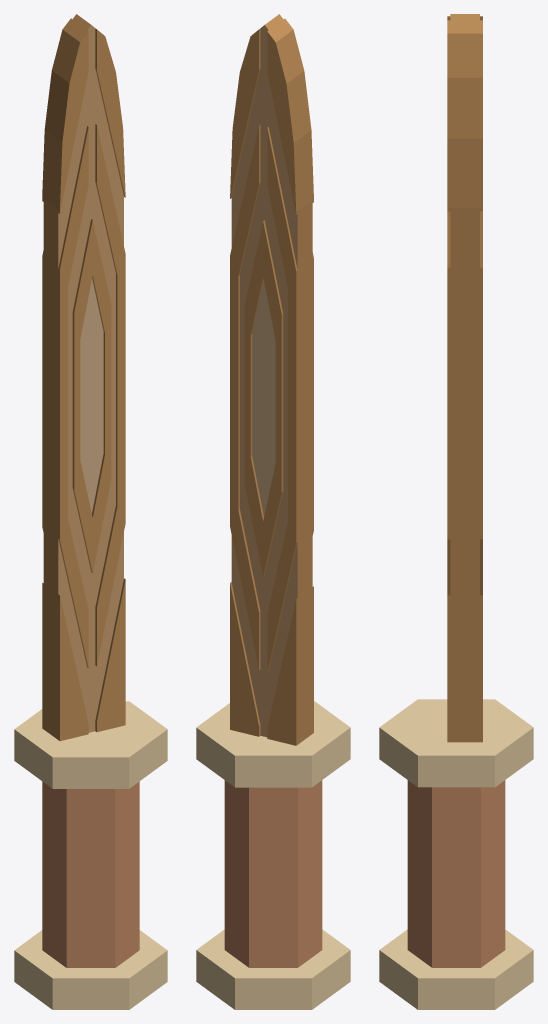
File: SwordThree.fbx
The picture shows the model from 3 angles, left to right: view 1: azimuth 30°, elevation 25°; view 2: azimuth 150°, elevation 25°; view 3: azimuth 270°, elevation 25°; orthographic projection.
Parts seen in each view (by area): view 1: mergedBlocks; view 2: mergedBlocks; view 3: mergedBlocks.
Boxes of the visible parts, x1,y1,x2,y2 form: mergedBlocks: [14, 14, 167, 1009]; mergedBlocks: [196, 14, 350, 1009]; mergedBlocks: [379, 14, 533, 1009].
Bounding box in the file's own units: 1.91 × 15.2 × 2.2.
